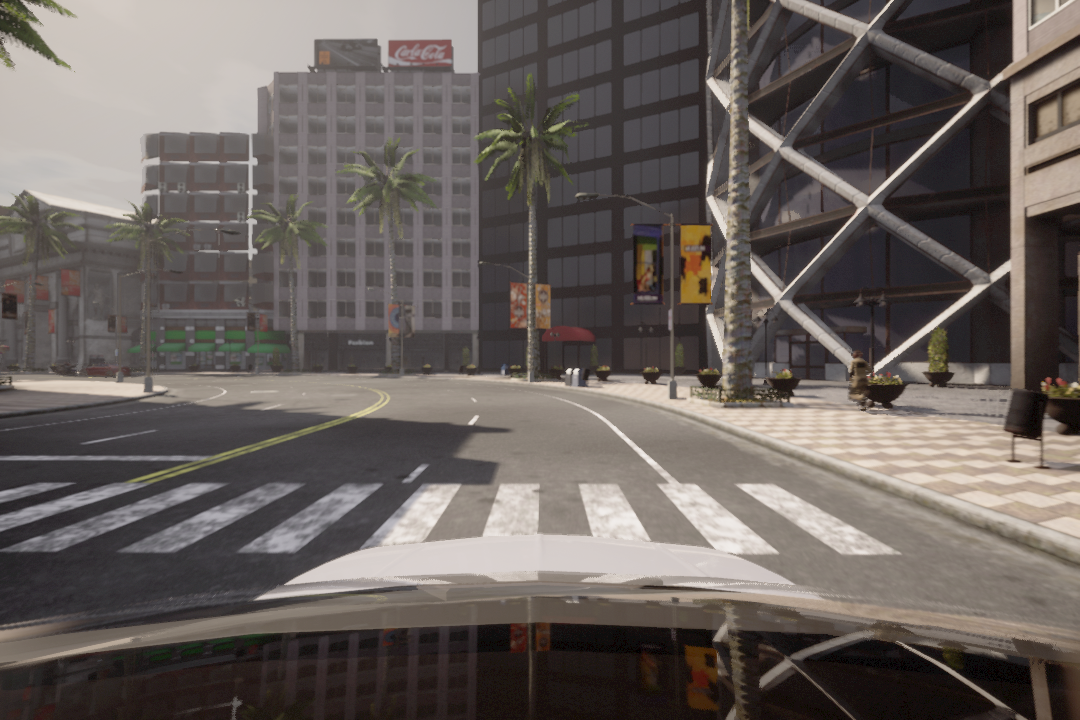walkside: (4, 482, 909, 557)
